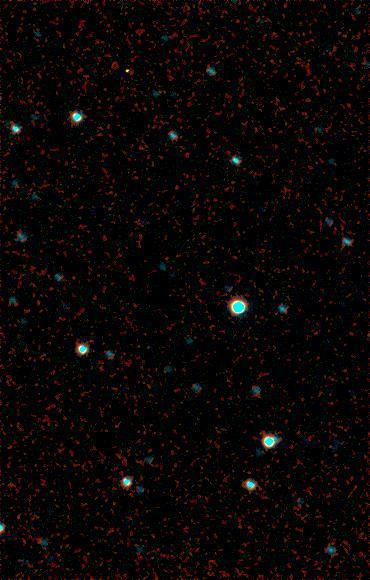star: (113, 57, 143, 87)
